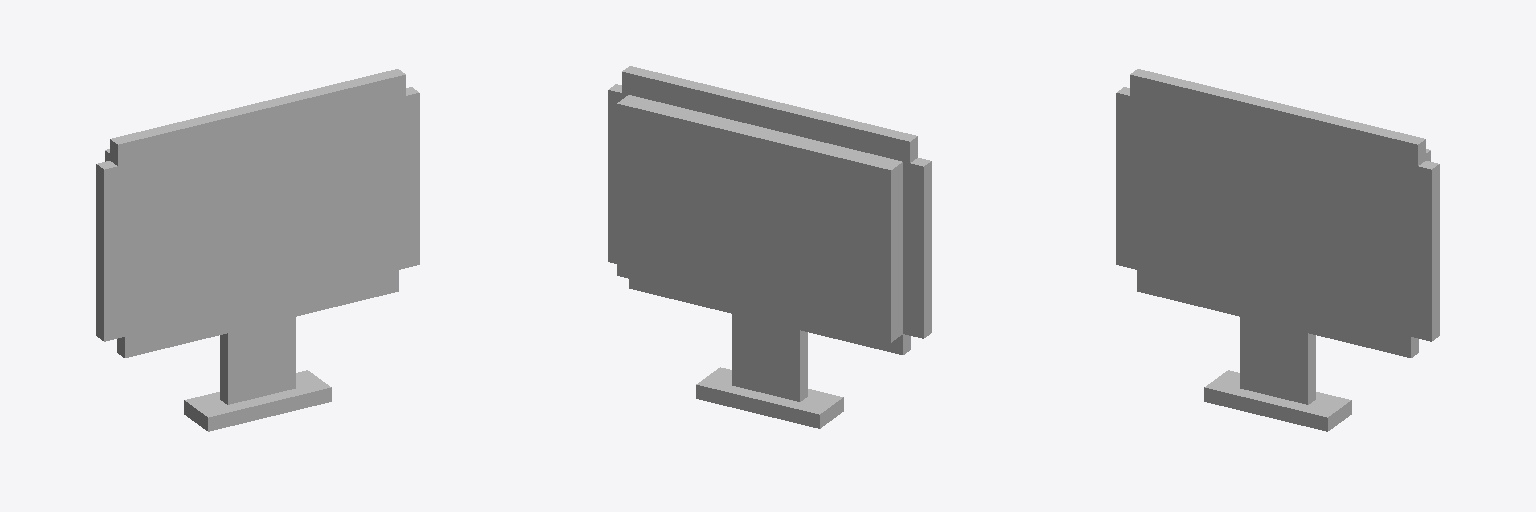
File: monitor.obj
The picture shows the model from 3 angles: view 1: azimuth 30°, elevation 25°; view 2: azimuth 150°, elevation 25°; view 3: azimuth 330°, elevation 25°; orthographic projection.
Parts seen in each view (by area): view 1: object 1; view 2: object 1; view 3: object 1.
Boxes of the visible parts, box(x1,y1,x2,y2) form: object 1: box(96, 69, 419, 431); object 1: box(608, 66, 931, 428); object 1: box(1116, 69, 1439, 431).
Size of the model in its own units: 4.6 by 4.2 by 0.7.